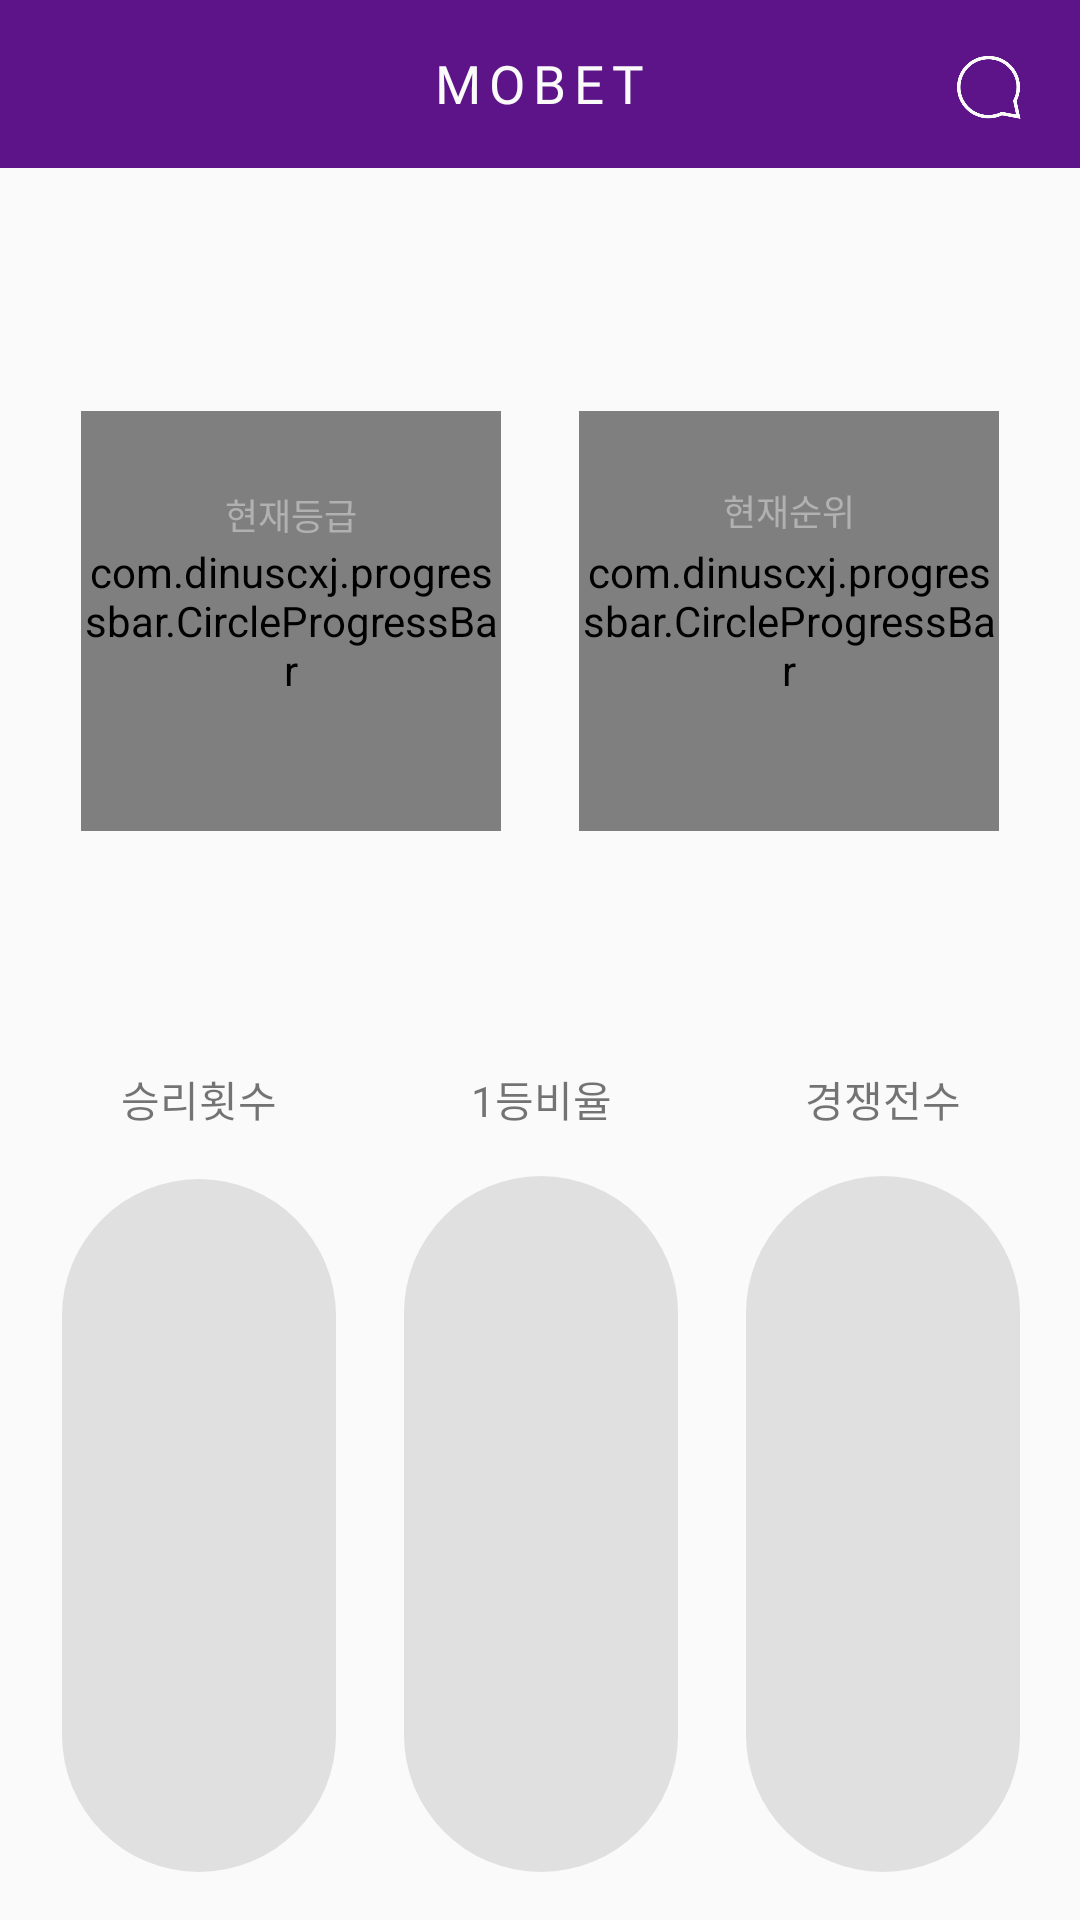

Named icons in this screenshot (1080×1920) and their bounding boxes, (x1, y1, x2, y2):
chat: (957, 56, 1021, 119)
